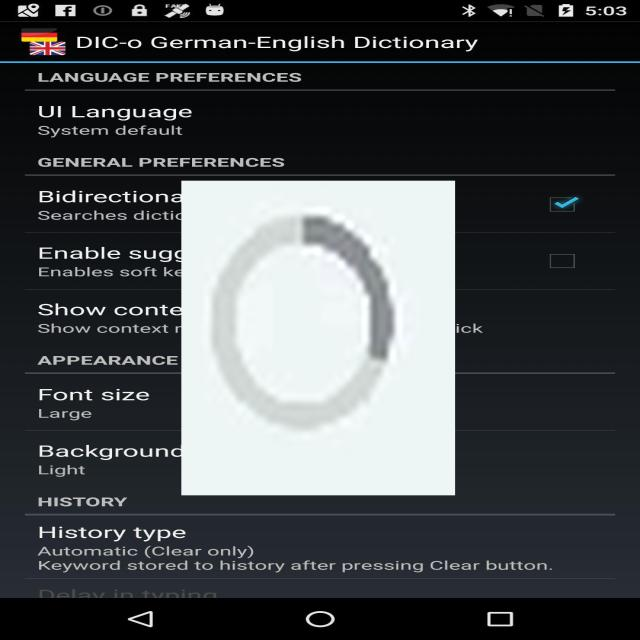misdirection: (181, 181, 455, 495)
